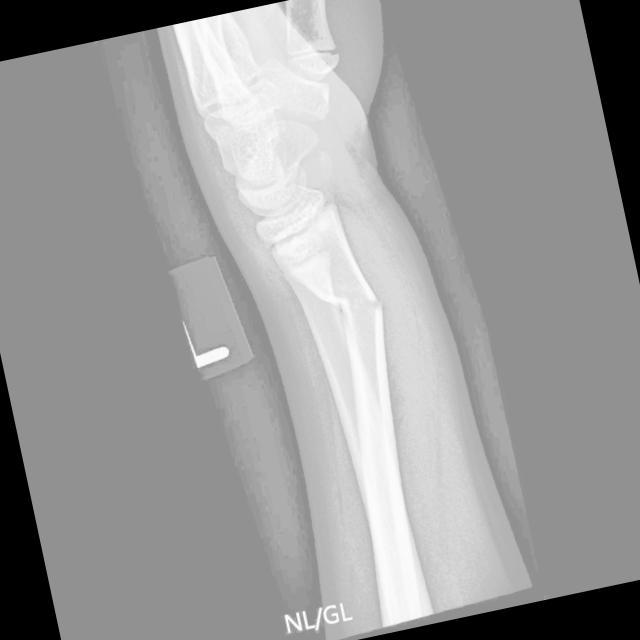GreenStick Fracture: (325, 286, 388, 320)
